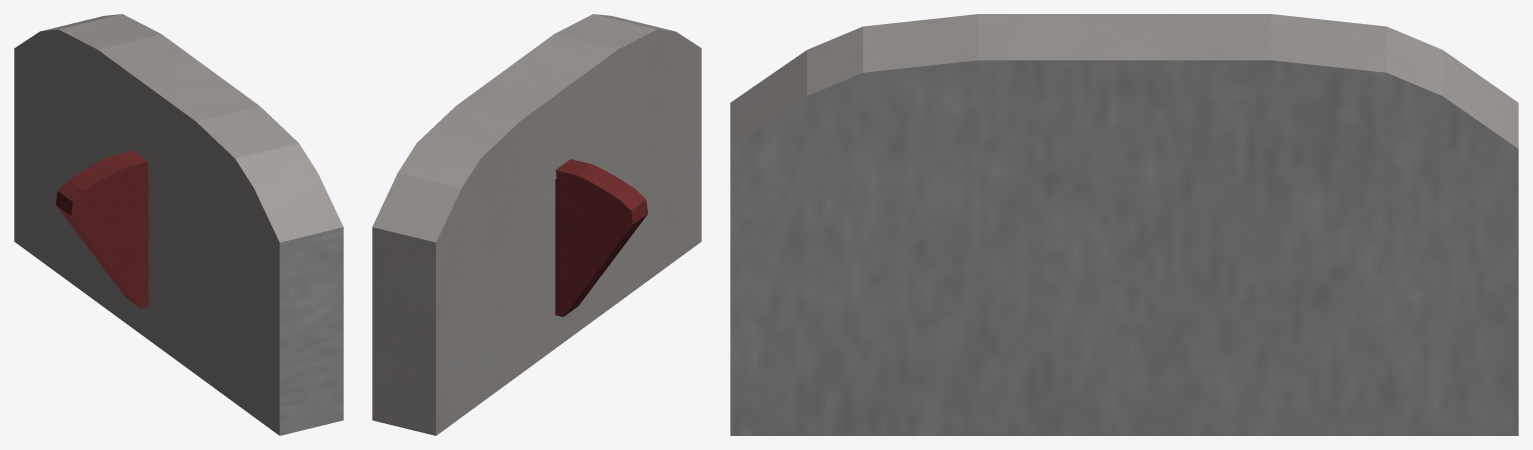
Rendered from mrt gantry left.fbx.
3 renders of one model, left to right at view 1: azimuth 30°, elevation 25°; view 2: azimuth 150°, elevation 25°; view 3: azimuth 270°, elevation 25°, orthographic. The views are drawn at different scales.
Visible parts, largest first — view 1: polySurface428, polySurface427; view 2: polySurface428, polySurface427; view 3: polySurface428.
Boxes of the visible parts, <box> form: polySurface428: <box>14,14,343,435</box>; polySurface427: <box>56,150,148,308</box>; polySurface428: <box>372,14,701,435</box>; polySurface427: <box>555,159,648,316</box>; polySurface428: <box>730,14,1518,435</box>.
Size of the model in its own units: 80.17 by 137 by 261.
1 material, 1 textured.
